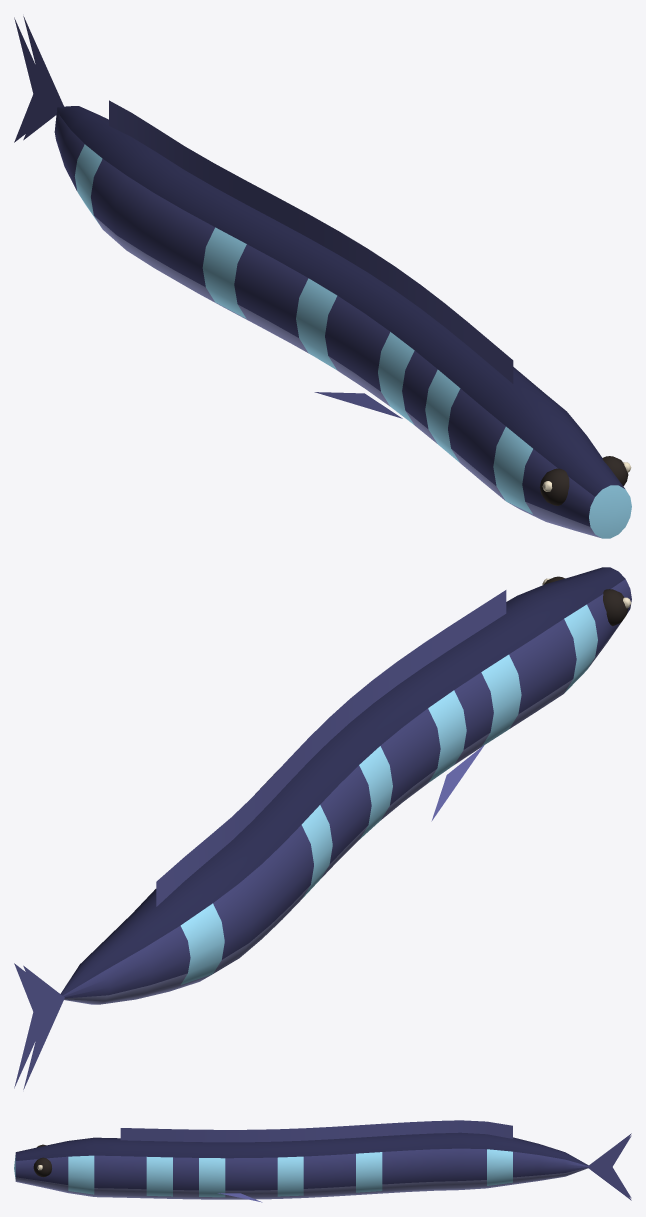
Rendered from Fish_MoonEel.fbx.
3 views of the same model, one above another, from view 1: azimuth 30°, elevation 25°; view 2: azimuth 150°, elevation 25°; view 3: azimuth 270°, elevation 25° (orthographic). The views are drawn at different scales.
Parts seen in each view (by area): view 1: Fish_MoonEel.001; view 2: Fish_MoonEel.001; view 3: Fish_MoonEel.001.
Boxes of the visible parts, x1,y1,x2,y2 form: Fish_MoonEel.001: (14, 16, 631, 538); Fish_MoonEel.001: (14, 567, 631, 1089); Fish_MoonEel.001: (14, 1120, 631, 1202).
Size of the model in its own units: 0.1135 by 0.1188 by 0.9122.
